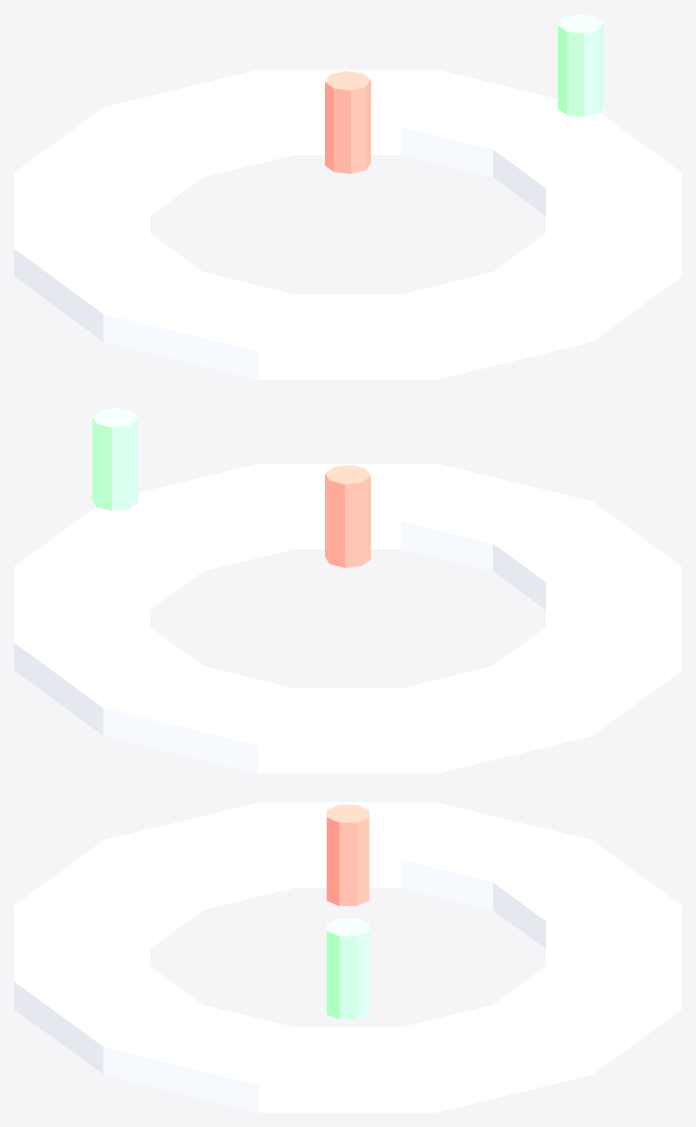
File: wave1_reward.glb
3 views of the same model, one above another, from view 1: azimuth 30°, elevation 25°; view 2: azimuth 150°, elevation 25°; view 3: azimuth 270°, elevation 25° (orthographic).
Parts seen in each view (by area): view 1: wave1_reward; view 2: wave1_reward; view 3: wave1_reward.
Boxes of the visible parts, <box> form: wave1_reward: <box>14,14,681,379</box>; wave1_reward: <box>14,408,681,773</box>; wave1_reward: <box>14,802,681,1112</box>.
Bounding box in the file's own units: 13.04 × 3.4 × 13.04.
